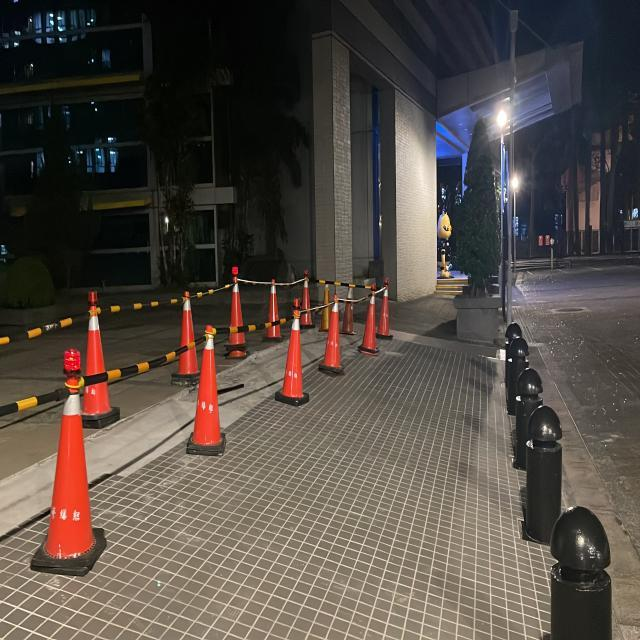traffic cone: (30, 376, 107, 577), (79, 289, 121, 430), (186, 326, 227, 456), (274, 309, 310, 407), (170, 291, 201, 386), (222, 266, 250, 359), (318, 295, 346, 376), (358, 288, 381, 356), (262, 278, 284, 342), (376, 286, 394, 339), (299, 273, 314, 328)
